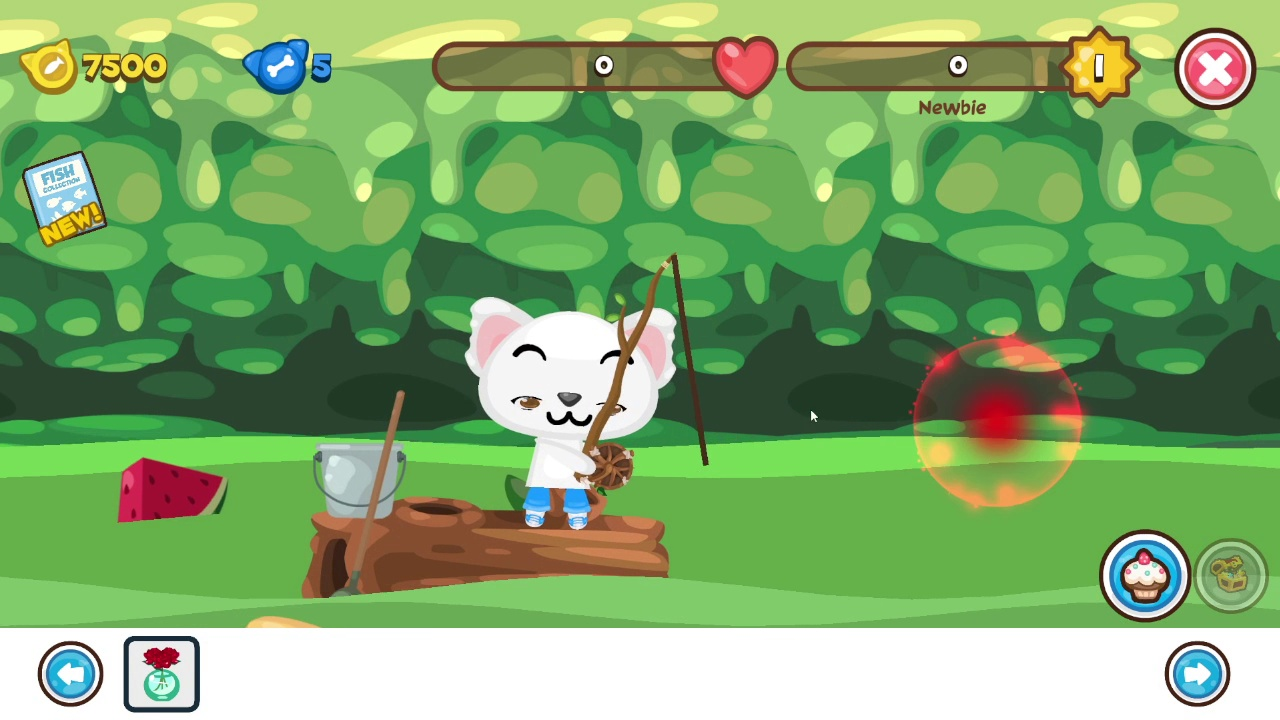point: (911, 336, 1084, 508)
